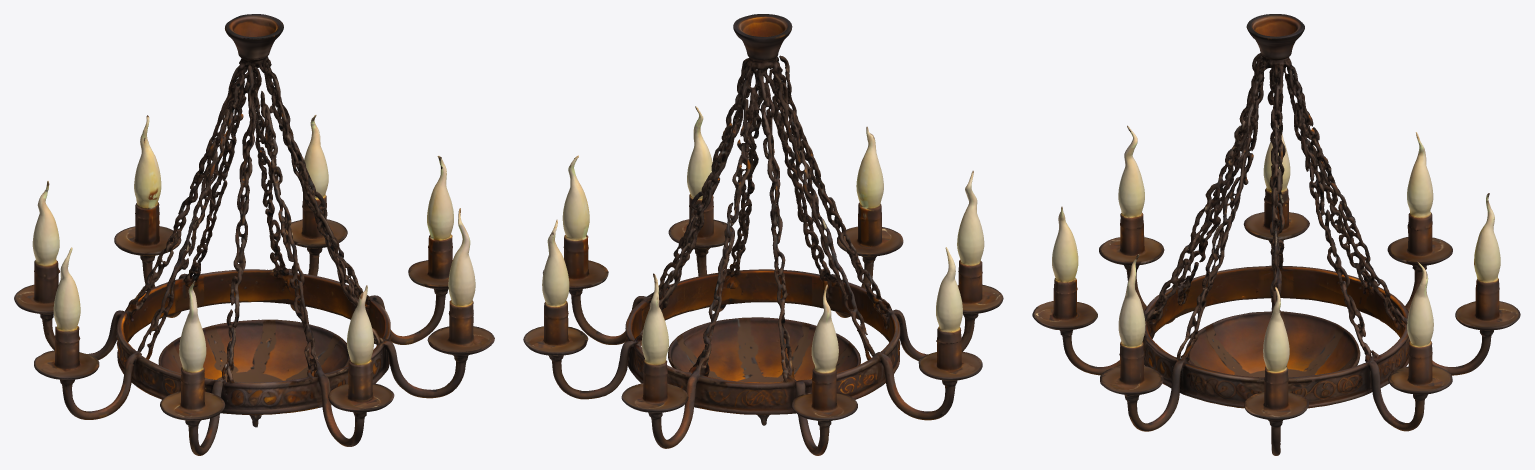
File: A_large_circular_chan_0721211005_texture.fbx
The picture shows the model from 3 angles, left to right: view 1: azimuth 30°, elevation 25°; view 2: azimuth 150°, elevation 25°; view 3: azimuth 270°, elevation 25°; orthographic projection.
Visible parts, largest first — view 1: Mesh_0; view 2: Mesh_0; view 3: Mesh_0.
Boxes of the visible parts, x1=… form: Mesh_0: x1=14, y1=14, x2=494, y2=455; Mesh_0: x1=523, y1=14, x2=1003, y2=455; Mesh_0: x1=1032, y1=14, x2=1520, y2=455.
Bounding box in the file's own units: 200 × 178 × 199.
Materials: 1 (1 with a texture image).
